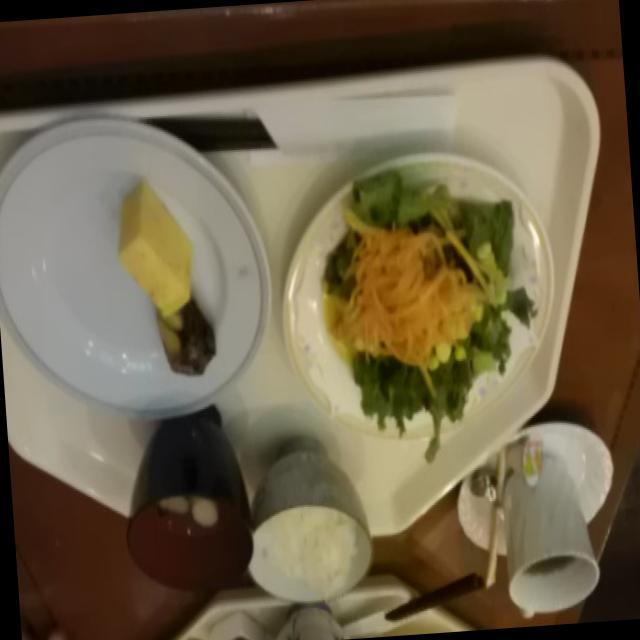Rice: (258, 490, 366, 609)
